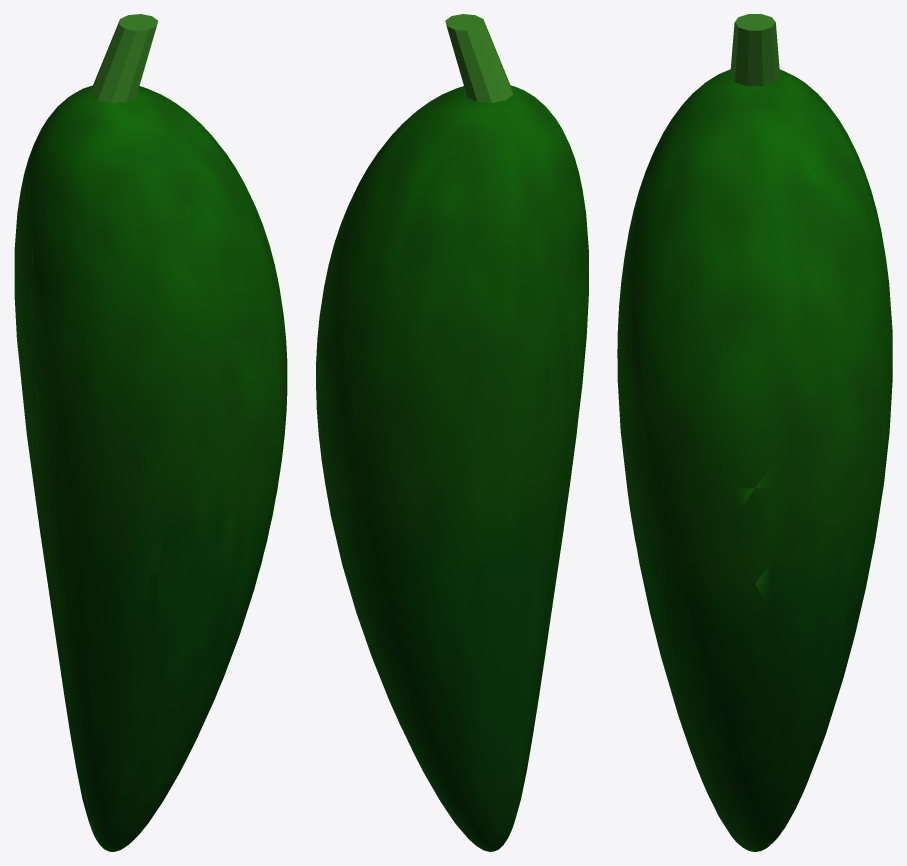
Rendered from piment-vert.glb.
The picture shows the model from 3 angles, left to right: view 1: azimuth 30°, elevation 25°; view 2: azimuth 150°, elevation 25°; view 3: azimuth 270°, elevation 25°; orthographic projection. The views are drawn at different scales.
Visible parts, largest first — view 1: entier_peau, moitie_B_peau, moitie_A_peau, entier_extra0; view 2: entier_peau, moitie_A_peau, moitie_B_peau, entier_extra0; view 3: entier_peau, moitie_B_peau, moitie_A_peau, entier_extra0.
Boxes of the visible parts, x1,y1,x2,y2 form: entier_peau: [14, 85, 287, 851]; moitie_B_peau: [32, 93, 286, 851]; moitie_A_peau: [14, 87, 169, 841]; entier_extra0: [90, 14, 157, 103]; entier_peau: [316, 86, 588, 851]; moitie_A_peau: [318, 88, 571, 850]; moitie_B_peau: [430, 85, 588, 841]; entier_extra0: [445, 14, 513, 103]; entier_peau: [617, 69, 892, 851]; moitie_B_peau: [617, 70, 755, 850]; moitie_A_peau: [755, 75, 892, 851]; entier_extra0: [730, 14, 779, 86].
Size of the model in its own units: 0.6546 by 2.16 by 0.6404.
